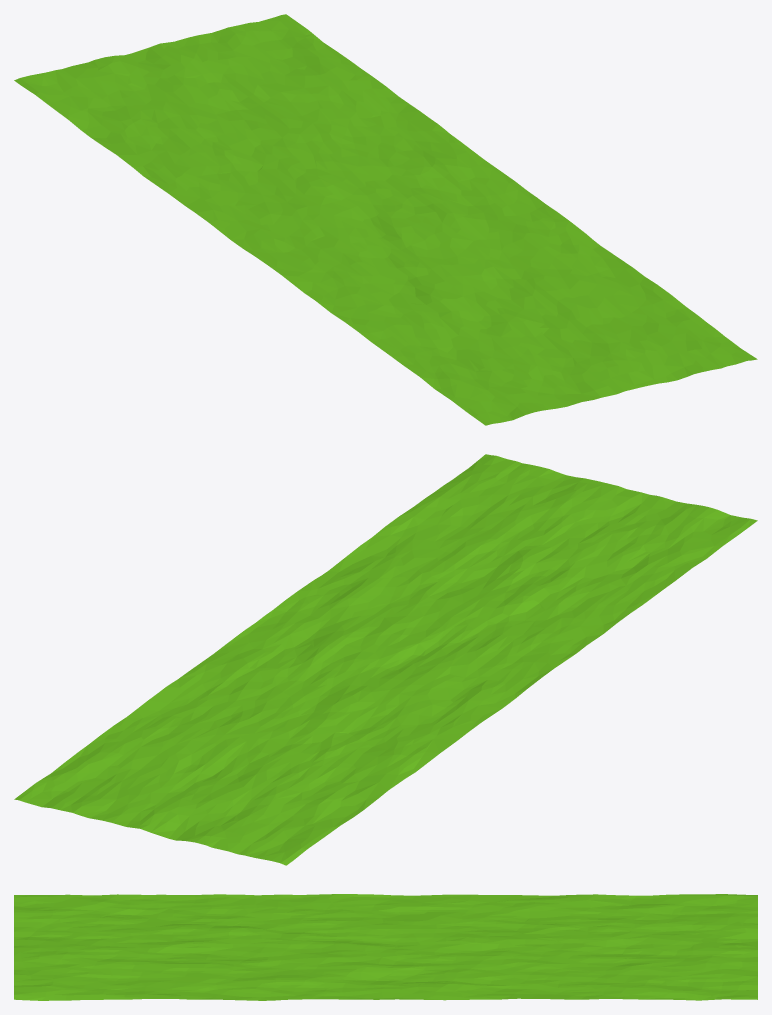
The model's file is low_poly_terrain1_corridor.fbx.
The picture shows the model from 3 angles, top to bottom: view 1: azimuth 30°, elevation 25°; view 2: azimuth 150°, elevation 25°; view 3: azimuth 270°, elevation 25°; orthographic projection. The views are drawn at different scales.
Parts seen in each view (by area): view 1: Plane; view 2: Plane; view 3: Plane.
Boxes of the visible parts, left/top/right/bottom form: Plane: left=14, top=14, right=757, bottom=425; Plane: left=14, top=454, right=757, bottom=865; Plane: left=14, top=894, right=757, bottom=1000.
Bounding box in the file's own units: 38003 × 703 × 114006.
